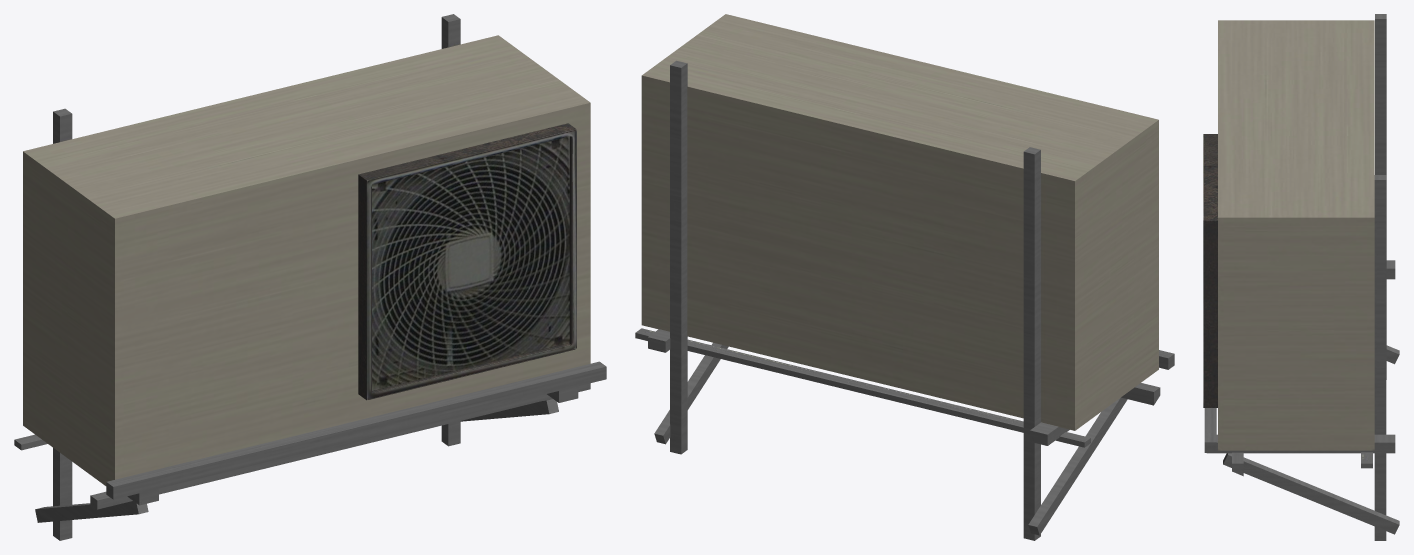
The model's file is vent.fbx.
The picture shows the model from 3 angles, left to right: view 1: azimuth 30°, elevation 25°; view 2: azimuth 150°, elevation 25°; view 3: azimuth 270°, elevation 25°; orthographic projection. The views are drawn at different scales.
Parts seen in each view (by area): view 1: vent; view 2: vent; view 3: vent.
Part boxes in pixels (left/top/right/bottom): vent: left=14, top=14, right=606, bottom=540; vent: left=635, top=14, right=1174, bottom=540; vent: left=1203, top=14, right=1399, bottom=540.
Bounding box in the file's own units: 123 × 101 × 49.88.
